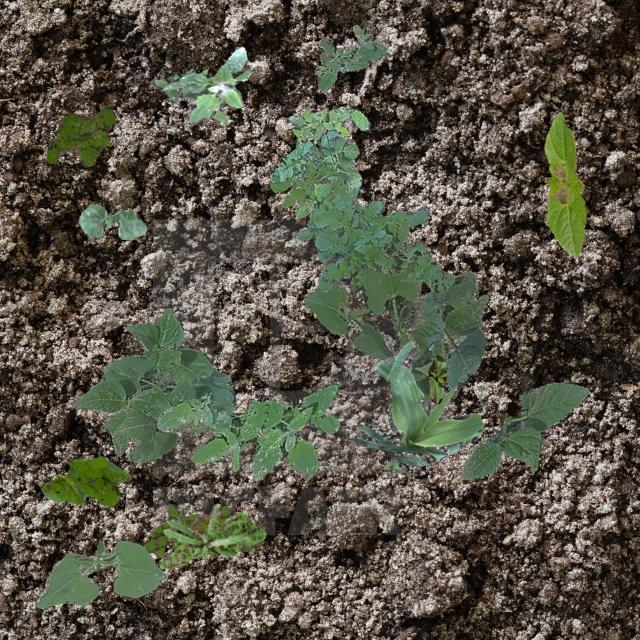crop: (302, 260, 488, 406), (70, 308, 236, 462), (352, 341, 484, 472), (459, 382, 588, 478), (35, 538, 166, 608), (542, 110, 584, 254), (78, 202, 146, 238), (428, 353, 447, 402)
weed: (268, 128, 454, 292), (156, 382, 338, 481), (153, 45, 250, 124), (158, 502, 264, 568), (144, 504, 264, 556), (314, 24, 386, 92), (41, 454, 130, 506), (46, 108, 114, 166), (287, 106, 368, 148), (352, 200, 412, 243), (240, 442, 247, 448)
